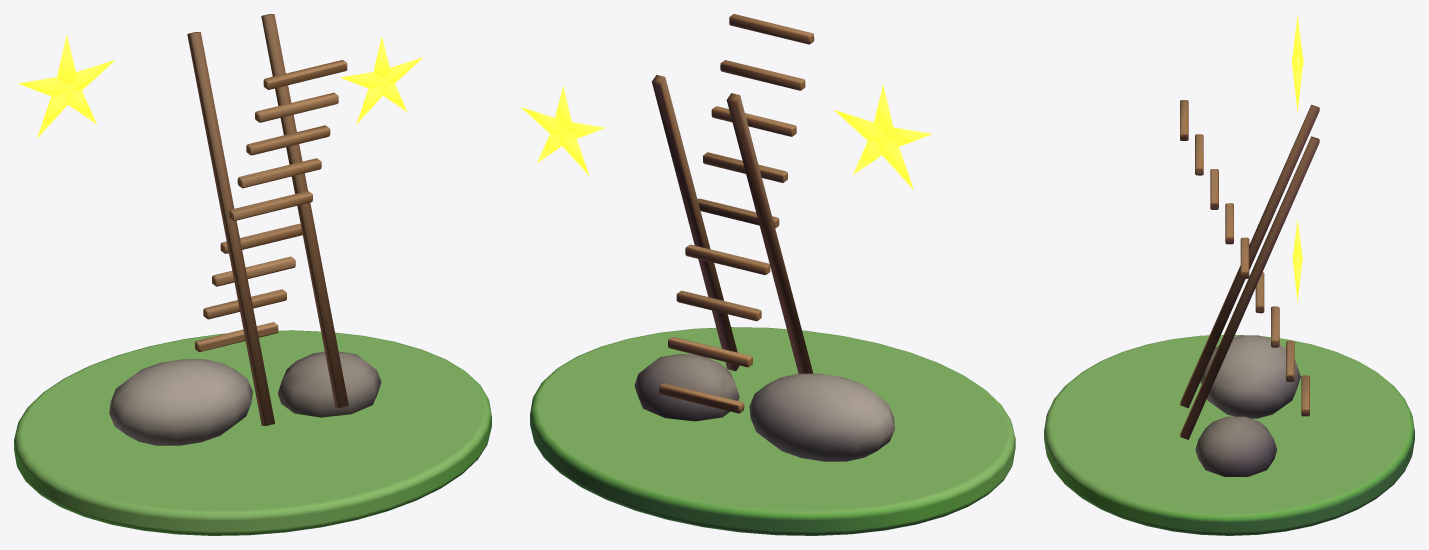
The model's file is ladder.glb.
3 renders of one model, left to right at view 1: azimuth 30°, elevation 25°; view 2: azimuth 150°, elevation 25°; view 3: azimuth 270°, elevation 25°, orthographic. The views are drawn at different scales.
Parts seen in each view (by area): view 1: ladder; view 2: ladder; view 3: ladder.
Boxes of the visible parts, left/top/right/bottom form: ladder: left=14, top=14, right=491, bottom=535; ladder: left=521, top=14, right=1015, bottom=535; ladder: left=1044, top=15, right=1414, bottom=535.
Size of the model in its own units: 5.25 by 4.9 by 4.46.
